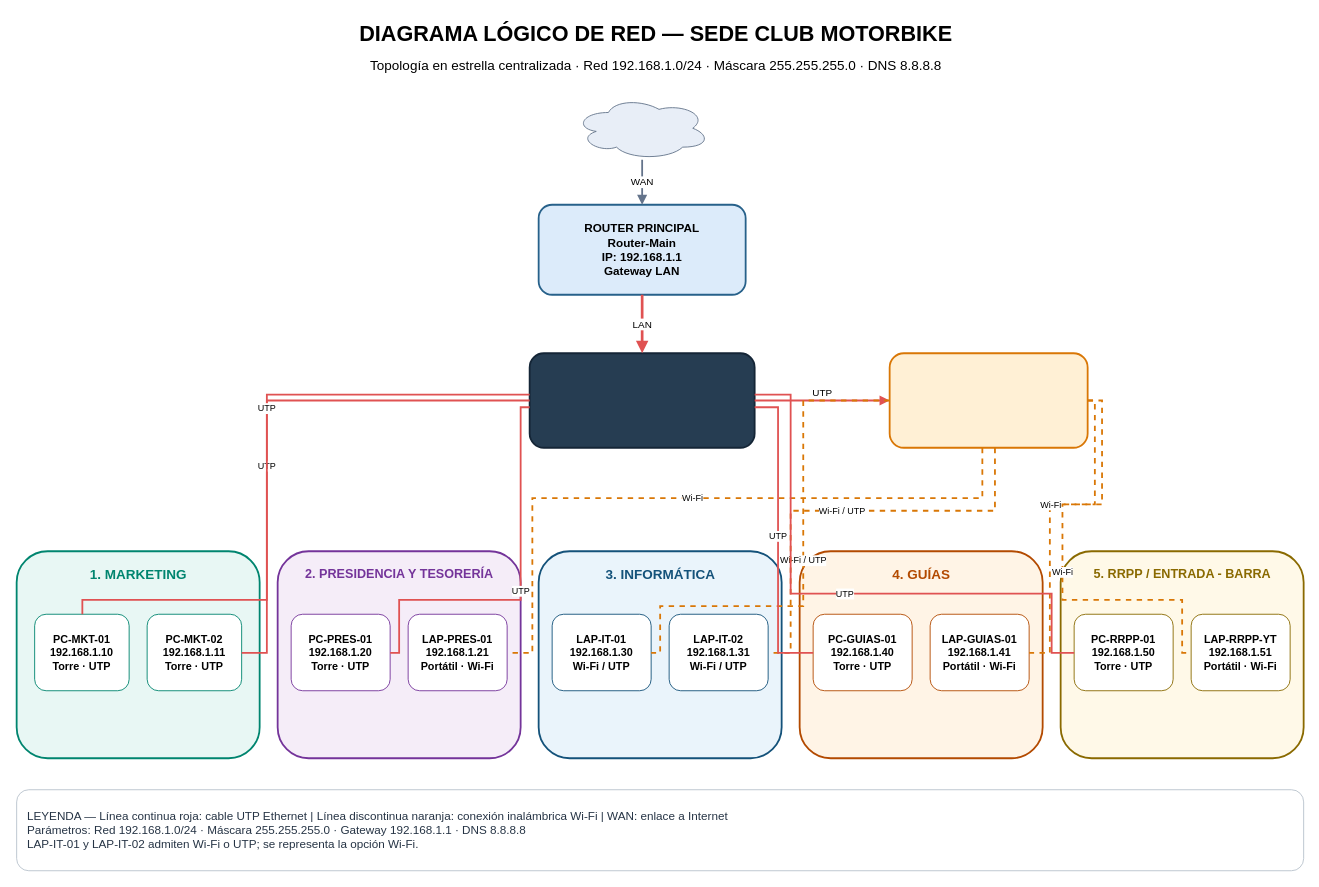
Image size: 1319x887. Some labels were removed from this diagram. The shapes that lost their labels are listed below. From the top down, each one's box as (x1, y1, x2, y2) in pixels, then its label:
(574, 96, 710, 160): INTERNET
(528, 352, 755, 448): SWITCH CORE · 24 PUERTOS GIGABIT Switch-Core IP: 192.168.1.2 Distribución LAN
(888, 352, 1088, 448): PUNTO DE ACCESO WI-FI AP-Club IP: 192.168.1.3
